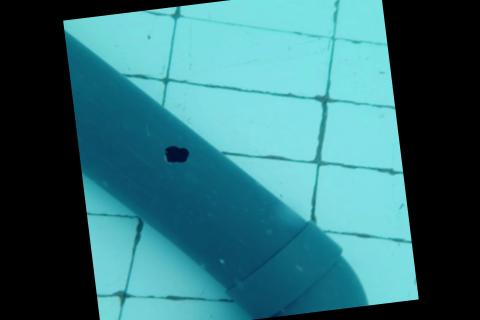kebocoran: (159, 141, 190, 166)
